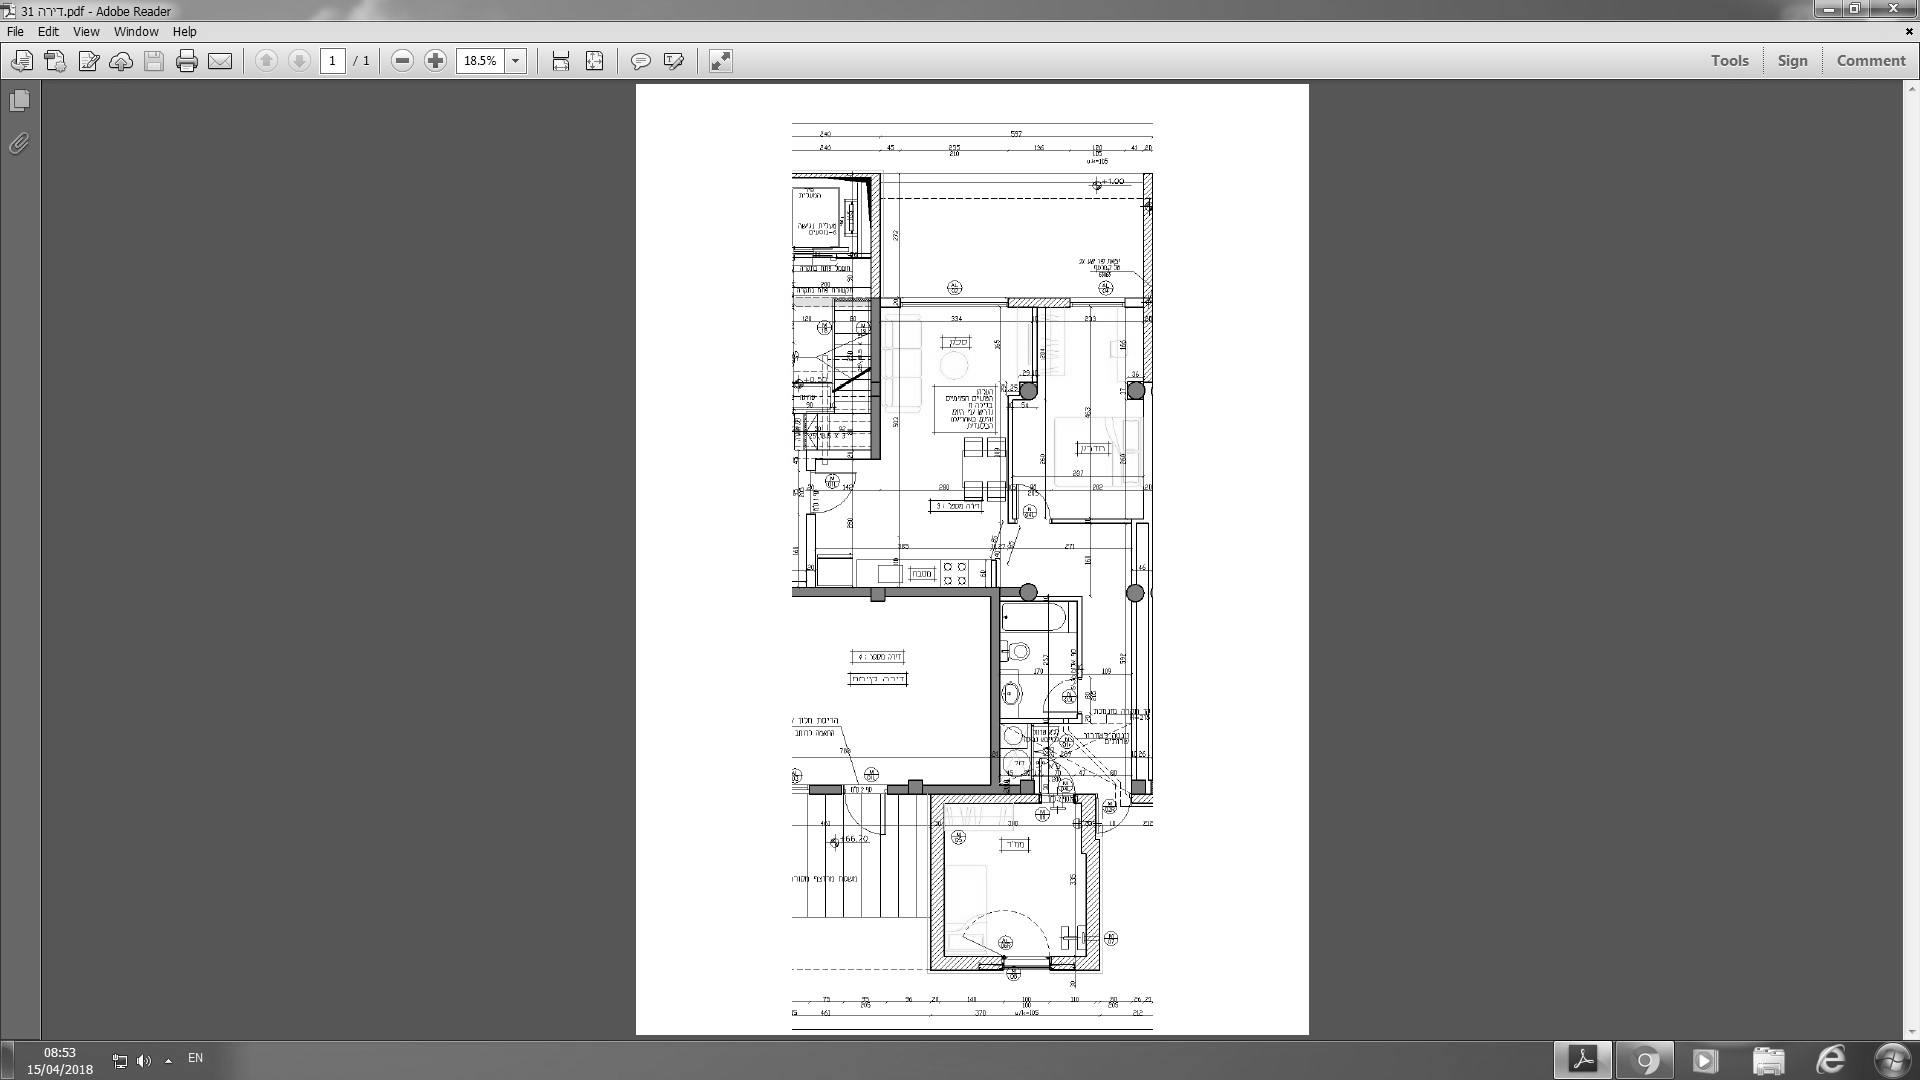wall: (990, 588, 1000, 794), (1145, 173, 1153, 384), (872, 298, 880, 459), (884, 588, 1000, 596), (923, 785, 1021, 793)
window: (894, 293, 1013, 311), (1068, 295, 1129, 310)
